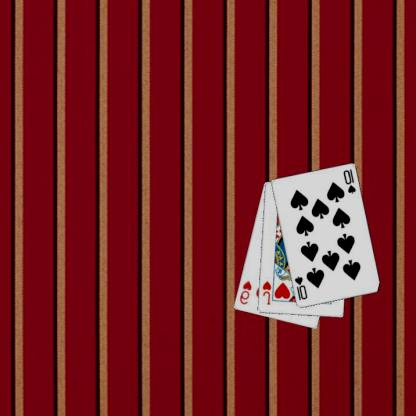10S: (342, 167, 359, 195), (294, 274, 310, 302)
6H: (239, 278, 254, 306)
JH: (262, 279, 274, 305)
